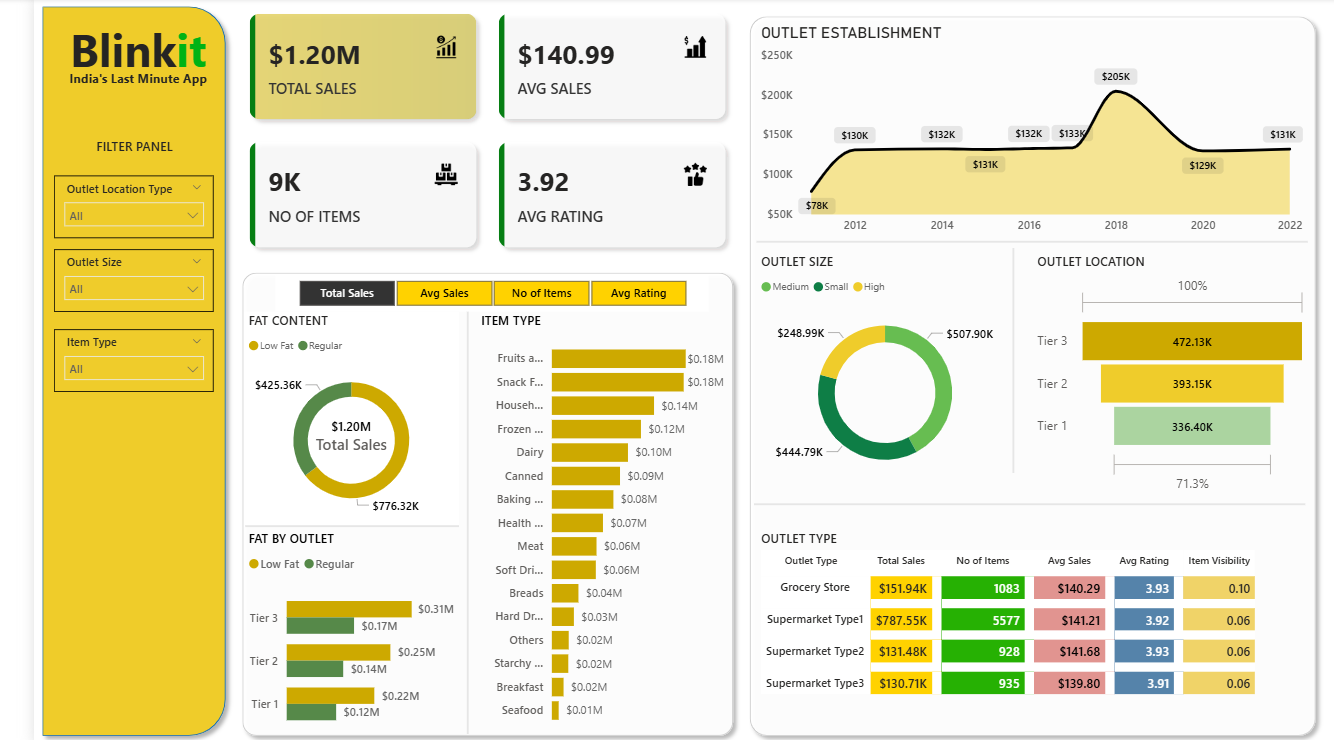

Layout of this report page (visuals, bound fields, positions):
{"tool":"powerbi","page":{"name":"Dashboard","canvas":[1400,800],"ordinal":0},"visuals":[{"type":"shape","box":[0,0,214.5,800.3],"z":0},{"type":"textbox","box":[25.5,0,172.6,91.6],"z":1000},{"type":"textbox","box":[25.5,72.4,172.9,36.2],"z":2000},{"type":"cardVisual","fields":{"Data":["BlinkIT Grocery Data.Total Sales","BlinkIT Grocery Data.Avg Sales","BlinkIT Grocery Data.No of Items","BlinkIT Grocery Data.Avg Rating"]},"box":[214.5,0,544.2,285.5],"z":3000},{"type":"shape","box":[214.5,285.5,544.2,514.7],"z":4000},{"type":"donutChart","title":"FAT CONTENT","fields":{"Y":["BlinkIT Grocery Data.Total Sales"],"Category":["BlinkIT Grocery Data.Item Fat Content"]},"box":[225.2,336.5,230.6,230.6],"z":5000},{"type":"slicer","fields":{"Values":["Metrics.Metrics"]},"box":[258.7,296.2,465.1,40.2],"z":6000},{"type":"cardVisual","fields":{"Data":["BlinkIT Grocery Data.Total Sales"]},"box":[278.8,422.3,123.3,93.8],"z":7000},{"type":"clusteredBarChart","title":"FAT BY OUTLET","fields":{"Y":["BlinkIT Grocery Data.Total Sales"],"Category":["BlinkIT Grocery Data.Outlet Location Type"],"Series":["BlinkIT Grocery Data.Item Fat Content"]},"box":[225.2,569.7,230.6,230.6],"z":8000},{"type":"shape","box":[226.5,534.9,229.2,63],"z":9000},{"type":"shape","box":[438.3,336.5,53.6,453.1],"z":10000},{"type":"barChart","title":"ITEM TYPE","fields":{"Y":["BlinkIT Grocery Data.Total Sales"],"Category":["BlinkIT Grocery Data.Item Type"]},"box":[474.5,336.5,270.8,453.1],"z":11000},{"type":"shape","box":[758.7,10.7,624.7,789.5],"z":12000},{"type":"lineChart","title":"OUTLET ESTABLISHMENT","fields":{"Category":["BlinkIT Grocery Data.Outlet Establishment Year"],"Y":["BlinkIT Grocery Data.Total Sales"]},"box":[774.8,26.8,591.2,234.6],"z":13000},{"type":"donutChart","title":"OUTLET SIZE","fields":{"Y":["BlinkIT Grocery Data.Total Sales"],"Category":["BlinkIT Grocery Data.Outlet Size"]},"box":[774.8,273.5,276.1,254.7],"z":14000},{"type":"funnel","title":"OUTLET LOCATION","fields":{"Y":["Sum(BlinkIT Grocery Data.Sales)"],"Category":["BlinkIT Grocery Data.Outlet Location Type"]},"box":[1071.1,273.5,298.9,262.7],"z":15000},{"type":"shape","box":[772.1,505.4,591.2,75.1],"z":16000},{"type":"shape","box":[774.8,223.9,591.2,75.1],"z":17000},{"type":"shape","box":[1032.2,268.1,36.2,241.3],"z":18000},{"type":"pivotTable","title":"OUTLET TYPE","fields":{"Rows":["BlinkIT Grocery Data.Outlet Type"],"Values":["BlinkIT Grocery Data.Total Sales","BlinkIT Grocery Data.No of Items","BlinkIT Grocery Data.Avg Sales","BlinkIT Grocery Data.Avg Rating","Avg(BlinkIT Grocery Data.Item Visibility)"]},"box":[774.8,569.7,591.2,215.8],"z":19000},{"type":"slicer","fields":{"Values":["BlinkIT Grocery Data.Outlet Location Type"]},"box":[21.4,190.3,171.6,67],"z":20000},{"type":"slicer","fields":{"Values":["BlinkIT Grocery Data.Outlet Size"]},"box":[21.4,269.4,171.6,67],"z":21000},{"type":"slicer","fields":{"Values":["BlinkIT Grocery Data.Item Type"]},"box":[21.4,355.2,171.6,67],"z":22000},{"type":"textbox","box":[21.4,144.8,172.9,36.2],"z":23000}]}

Visuals, with their boxes on the page's 1400x800 design canvas (x1, y1, x2, y2). These are canvas units, not pixel positions in the 1334x740 screenshot, which may show the page scaled, cropped or inside an application window:
shape: detection(0, 0, 214, 800)
textbox: detection(26, 0, 198, 92)
textbox: detection(26, 72, 198, 109)
cardVisual - BlinkIT Grocery Data.Total Sales x BlinkIT Grocery Data.Avg Sales: detection(214, 0, 759, 286)
shape: detection(214, 286, 759, 800)
"FAT CONTENT" donutChart: detection(225, 336, 456, 567)
slicer - Metrics.Metrics: detection(259, 296, 724, 336)
cardVisual - BlinkIT Grocery Data.Total Sales: detection(279, 422, 402, 516)
"FAT BY OUTLET" clusteredBarChart: detection(225, 570, 456, 800)
shape: detection(226, 535, 456, 598)
shape: detection(438, 336, 492, 790)
"ITEM TYPE" barChart: detection(474, 336, 745, 790)
shape: detection(759, 11, 1383, 800)
"OUTLET ESTABLISHMENT" lineChart: detection(775, 27, 1366, 261)
"OUTLET SIZE" donutChart: detection(775, 274, 1051, 528)
"OUTLET LOCATION" funnel: detection(1071, 274, 1370, 536)
shape: detection(772, 505, 1363, 580)
shape: detection(775, 224, 1366, 299)
shape: detection(1032, 268, 1068, 509)
"OUTLET TYPE" pivotTable: detection(775, 570, 1366, 786)
slicer - BlinkIT Grocery Data.Outlet Location Type: detection(21, 190, 193, 257)
slicer - BlinkIT Grocery Data.Outlet Size: detection(21, 269, 193, 336)
slicer - BlinkIT Grocery Data.Item Type: detection(21, 355, 193, 422)
textbox: detection(21, 145, 194, 181)
